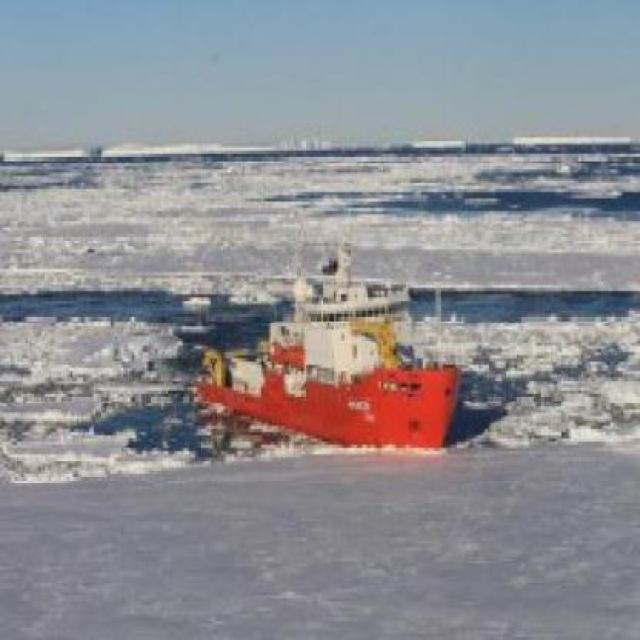fish-b: (186, 286, 480, 469)
